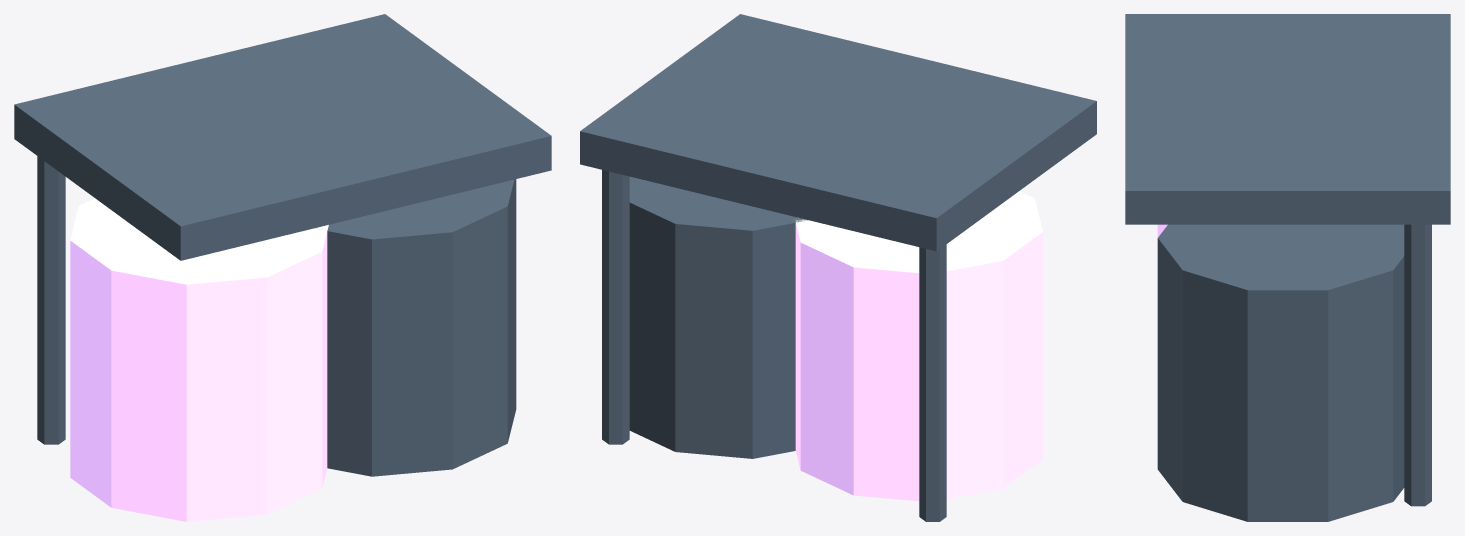
Rendered from bldg_collect.glb.
3 renders of one model, left to right at view 1: azimuth 30°, elevation 25°; view 2: azimuth 150°, elevation 25°; view 3: azimuth 270°, elevation 25°, orthographic. The views are drawn at different scales.
Visible parts, largest first — view 1: Cover, Bin1, Bin2, Post; view 2: Cover, Bin1, Bin2, Post, Post.001; view 3: Bin2, Cover, Post.001.
Part boxes in pixels (<box>): Cover: <box>14,14,551,260</box>; Bin1: <box>70,198,328,521</box>; Bin2: <box>321,179,516,476</box>; Post: <box>37,156,65,444</box>; Cover: <box>580,14,1096,251</box>; Bin1: <box>795,191,1042,501</box>; Bin2: <box>629,176,807,458</box>; Post: <box>919,244,946,521</box>; Post.001: <box>602,170,629,444</box>; Bin2: <box>1157,224,1404,521</box>; Cover: <box>1125,14,1450,224</box>; Post.001: <box>1404,224,1431,506</box>.
Bounding box in the file's own units: 0.9826 × 0.76 × 0.7.
